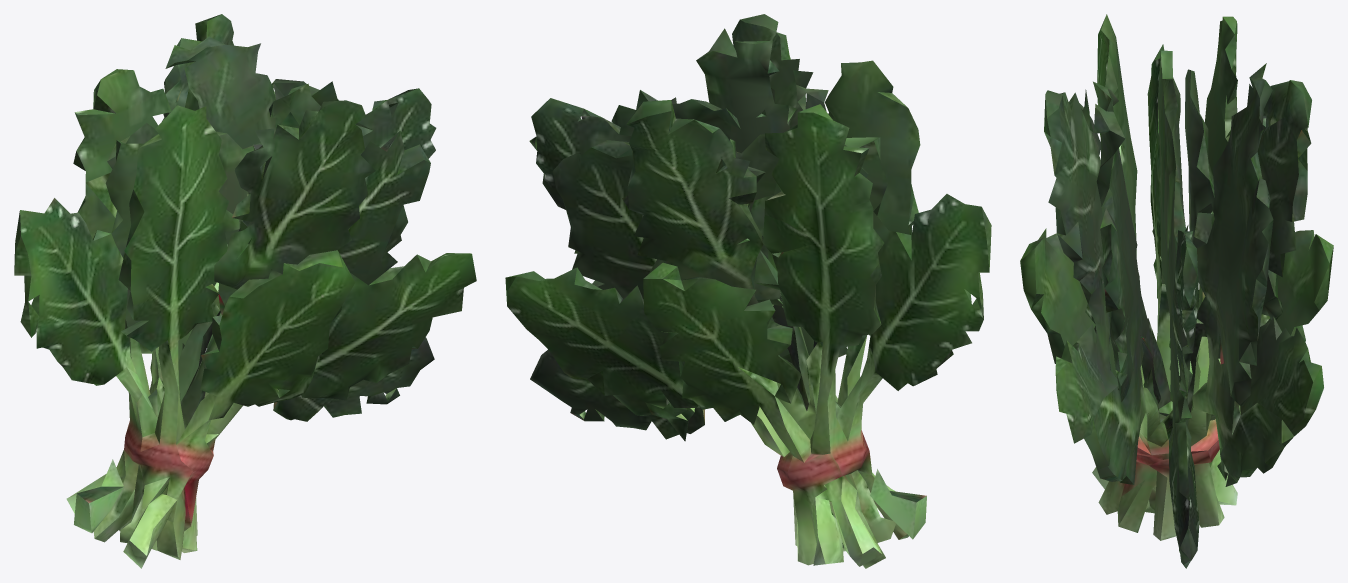
Rendered from kale.glb.
3 views of the same model, side by side, from view 1: azimuth 30°, elevation 25°; view 2: azimuth 150°, elevation 25°; view 3: azimuth 270°, elevation 25° (orthographic). The views are drawn at different scales.
Visible parts, largest first — view 1: kale; view 2: kale; view 3: kale.
Boxes of the visible parts, x1,y1,x2,y2 form: kale: (14, 14, 476, 568); kale: (505, 14, 991, 568); kale: (1020, 14, 1333, 568).
Bounding box in the file's own units: 0.9831 × 1 × 0.5599.
1 material, 1 textured.
